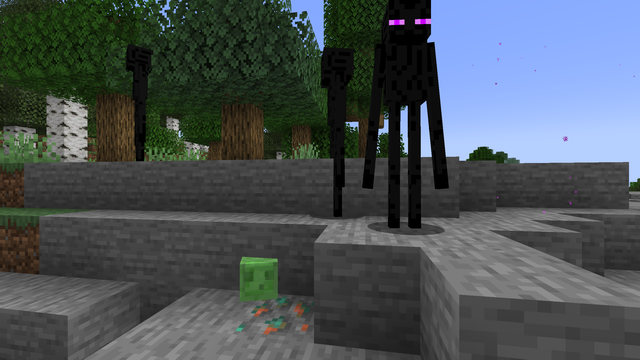endermens: (379, 0, 434, 232), (316, 39, 353, 217), (118, 40, 159, 137)
slimes: (233, 252, 278, 301)
